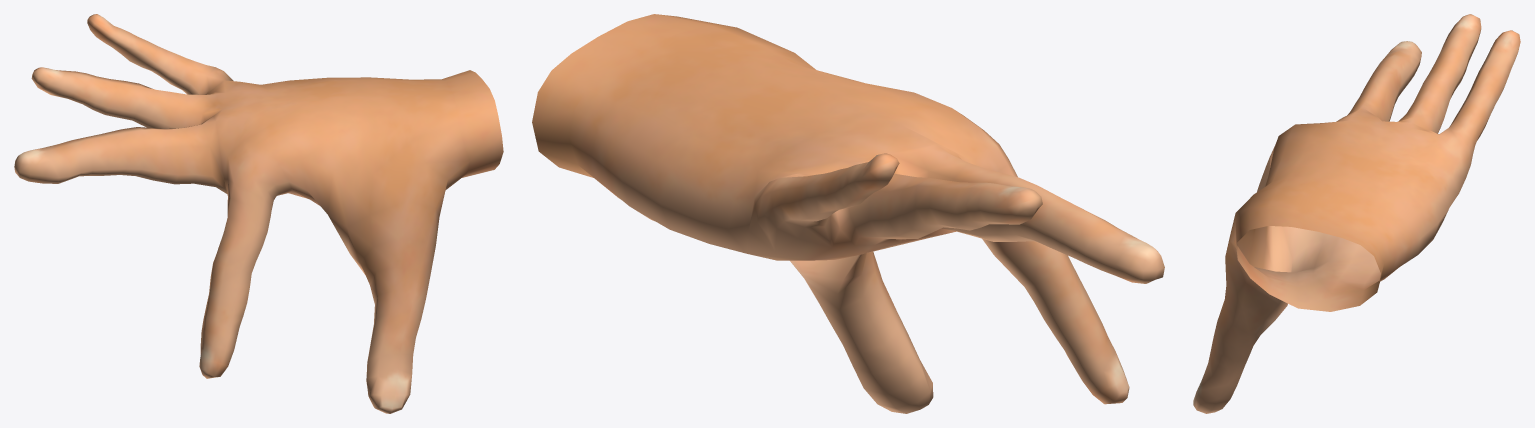
The model's file is H_pinch_spread_wide.fbx.
3 renders of one model, left to right at view 1: azimuth 30°, elevation 25°; view 2: azimuth 150°, elevation 25°; view 3: azimuth 270°, elevation 25°, orthographic. The views are drawn at different scales.
Parts seen in each view (by area): view 1: H_pinch_spread_wide; view 2: H_pinch_spread_wide; view 3: H_pinch_spread_wide.
Part boxes in pixels (<box>): H_pinch_spread_wide: <box>14,14,503,413</box>; H_pinch_spread_wide: <box>532,14,1164,413</box>; H_pinch_spread_wide: <box>1193,14,1520,413</box>.
Size of the model in its own units: 20.67 by 14.49 by 13.73.
Materials: 1 (1 with a texture image).
